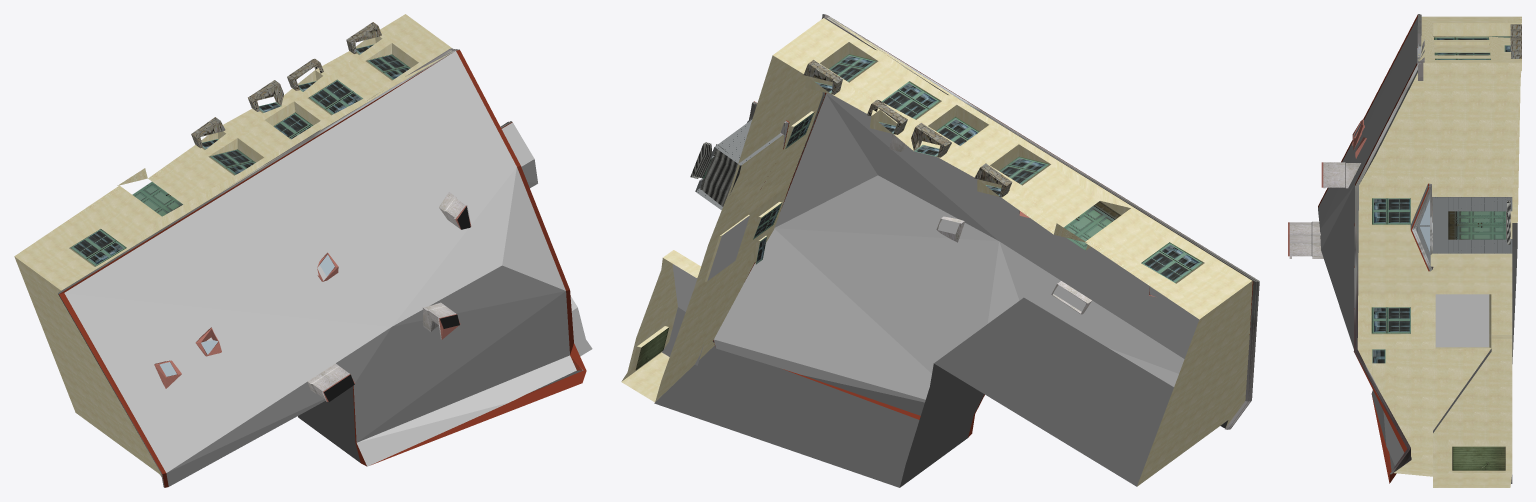
File: Kiriku-poik-4a-origo.obj
3 views of the same model, side by side, from view 1: azimuth 30°, elevation 25°; view 2: azimuth 150°, elevation 25°; view 3: azimuth 270°, elevation 25° (orthographic). The views are drawn at different scales.
Visible parts, largest first — view 1: Kiriku_p_ik_4a; view 2: Kiriku_p_ik_4a; view 3: Kiriku_p_ik_4a.
Part boxes in pixels (box(x1,y1,x2,y2)): Kiriku_p_ik_4a: box(14, 14, 592, 487); Kiriku_p_ik_4a: box(621, 14, 1259, 487); Kiriku_p_ik_4a: box(1288, 14, 1521, 487).
Size of the model in its own units: 25.06 by 16.5 by 9.02.
